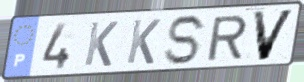4: (41, 21, 73, 72)
K: (124, 18, 163, 66), (82, 20, 121, 68)
R: (205, 13, 250, 63)
S: (163, 13, 210, 67)
V: (250, 8, 298, 63)
